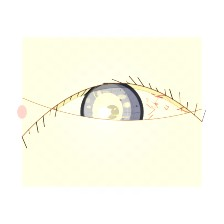corneal_ulcer: (80, 88, 135, 132)
